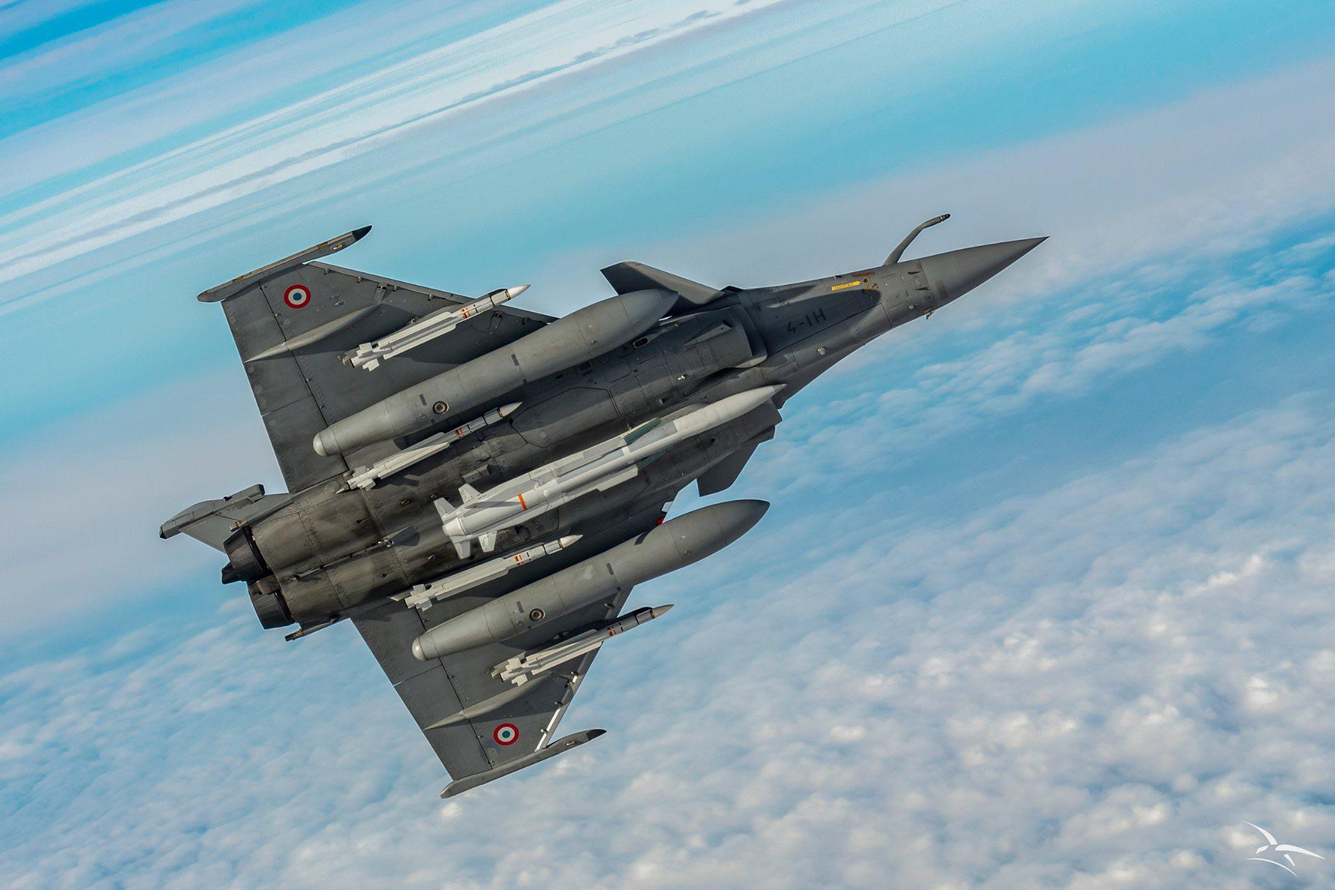Rafale: (153, 204, 1057, 805)
